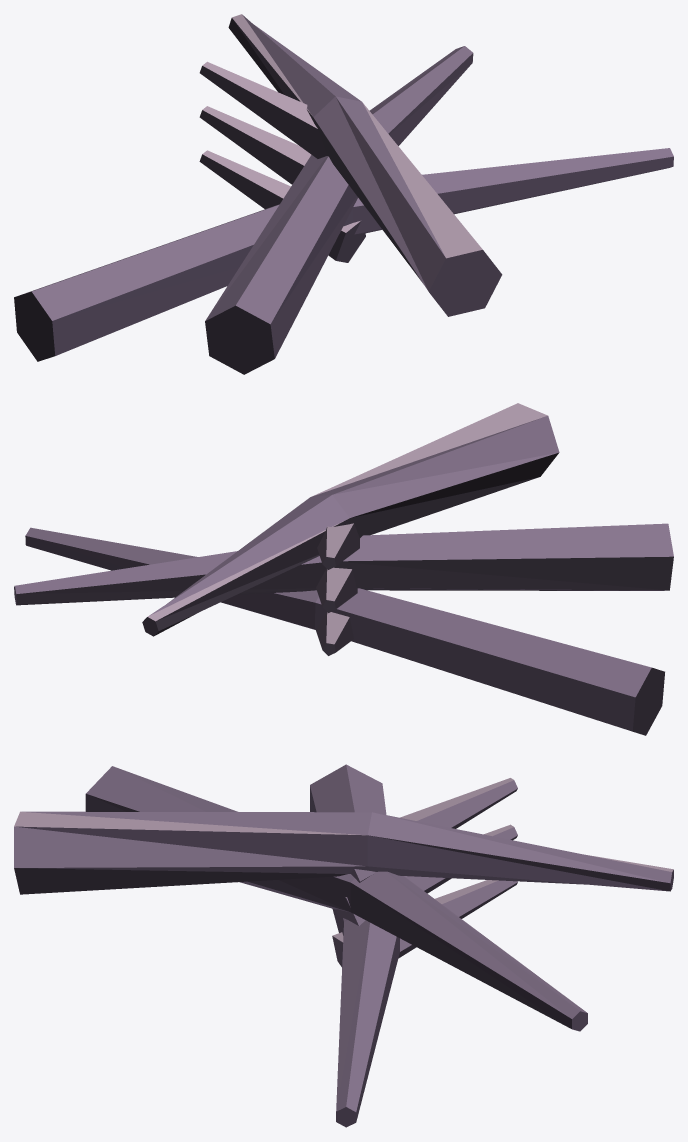
File: TW_PROP_BRANCH_PILE_A_LOD0.glb
3 views of the same model, one above another, from view 1: azimuth 30°, elevation 25°; view 2: azimuth 150°, elevation 25°; view 3: azimuth 270°, elevation 25° (orthographic). The views are drawn at different scales.
Parts seen in each view (by area): view 1: TW_PROP_BRANCH_PILE_A_LOD0; view 2: TW_PROP_BRANCH_PILE_A_LOD0; view 3: TW_PROP_BRANCH_PILE_A_LOD0.
Part boxes in pixels (box(x1,y1,x2,y2)): TW_PROP_BRANCH_PILE_A_LOD0: box(14, 14, 673, 374); TW_PROP_BRANCH_PILE_A_LOD0: box(14, 403, 673, 735); TW_PROP_BRANCH_PILE_A_LOD0: box(14, 764, 673, 1127).
Bounding box in the file's own units: 1.21 × 0.3275 × 1.02.
Materials: 1 (1 with a texture image).
